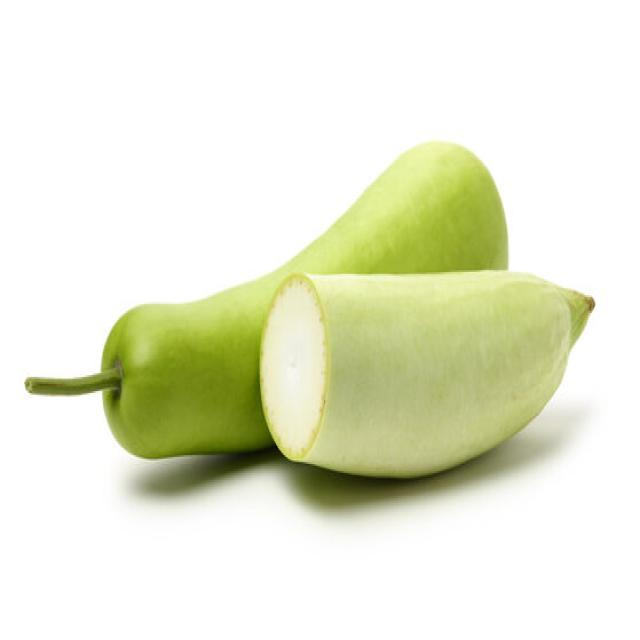Bottle Gourd: (24, 137, 508, 460), (258, 267, 595, 480)
